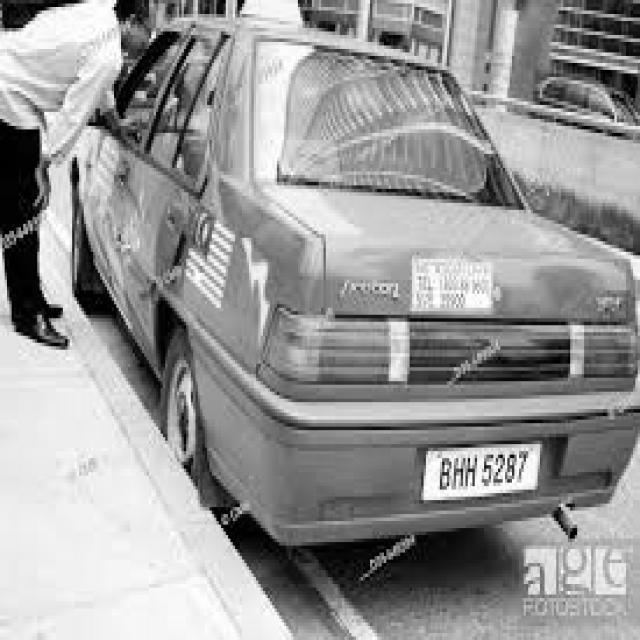car-plate: (421, 441, 543, 504)
